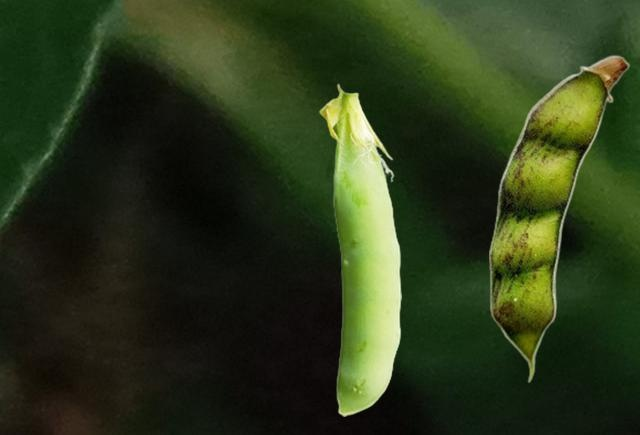pea: (489, 54, 629, 382), (319, 83, 400, 415)
